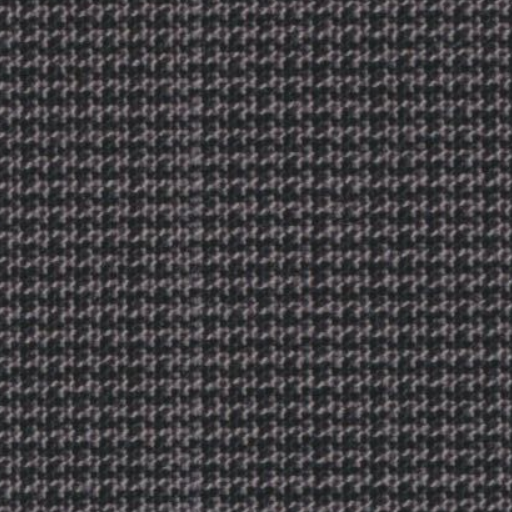TuoSha: (130, 14, 228, 492)
